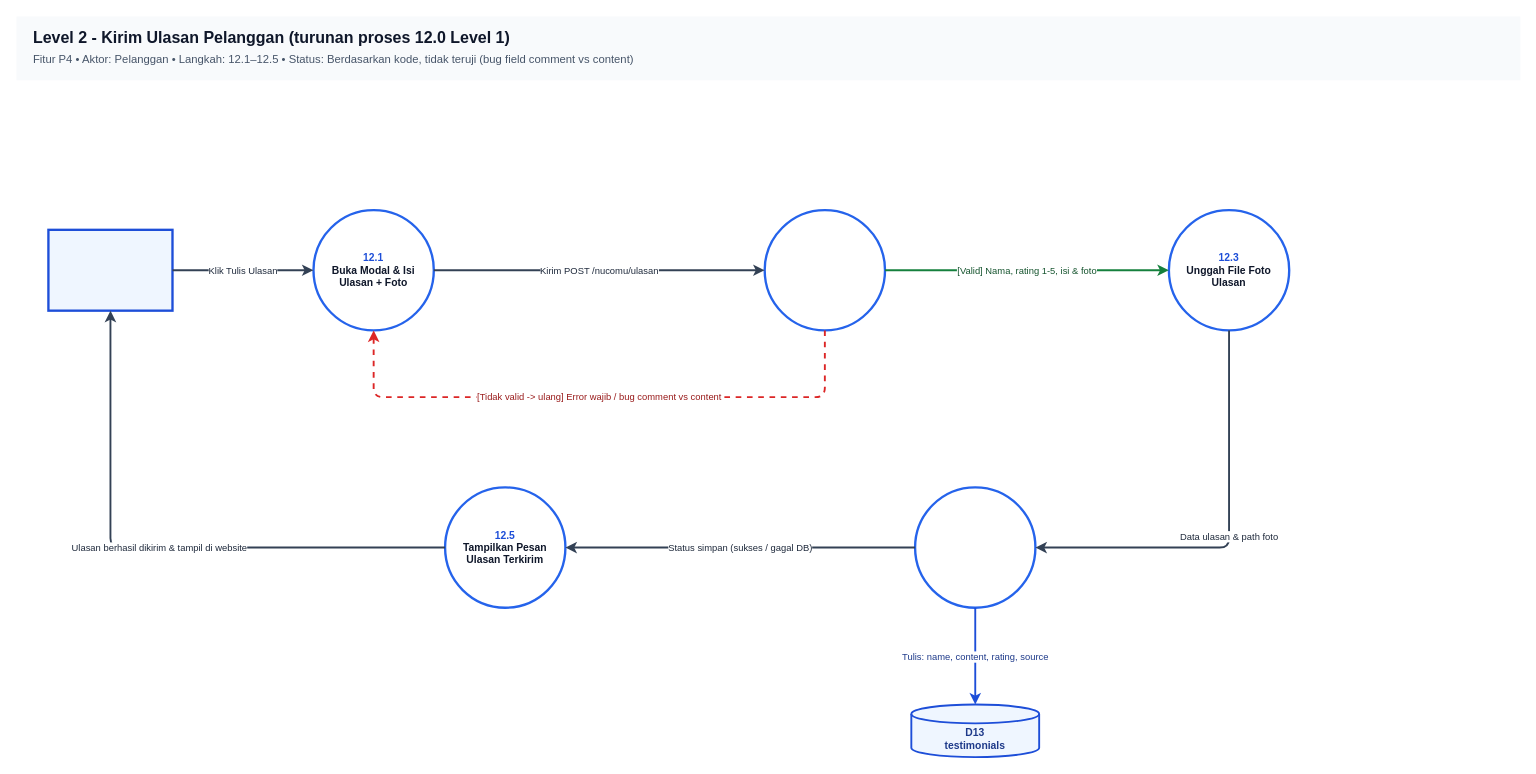
This 1536x774 diagram has some shape labels left out. The shapes that lost their labels are listed below. From the top down, each one's centre as x and y in pixels, then its label:
At pixel 110 269: "Pelanggan Tanpa Login".
At pixel 824 269: "12.2 Validasi Rating, Teks & File Foto".
At pixel 974 547: "12.4 Simpan Ulasan ke Basis Data".
